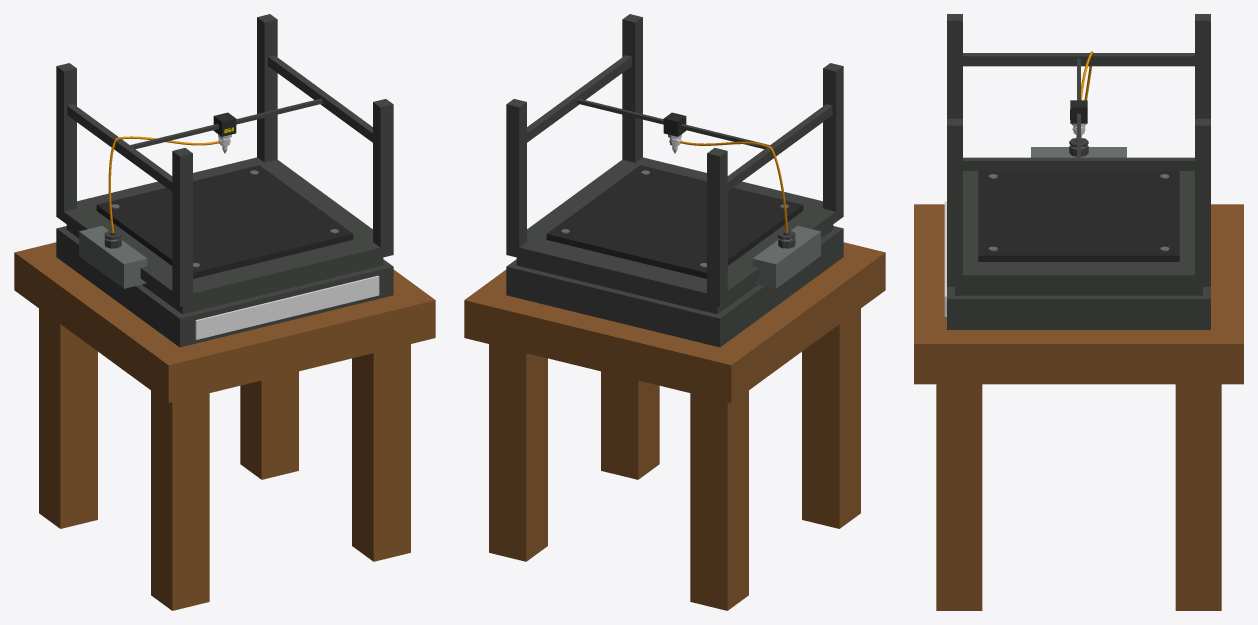
The model's file is LaserCutter.glb.
3 views of the same model, side by side, from view 1: azimuth 30°, elevation 25°; view 2: azimuth 150°, elevation 25°; view 3: azimuth 270°, elevation 25° (orthographic). The views are drawn at different scales.
Visible parts, largest first — view 1: Table, Laser Cutter, Baseplate, Progress Bar, Altitude Bar, Laser Bar, Nozzle, Wire; view 2: Table, Laser Cutter, Baseplate, Altitude Bar, Laser Bar, Nozzle; view 3: Table, Laser Cutter, Baseplate, Altitude Bar, Nozzle.
Boxes of the visible parts, x1=… form: Table: x1=14, y1=242, x2=435, y2=610; Laser Cutter: x1=56, y1=14, x2=393, y2=347; Baseplate: x1=96, y1=165, x2=353, y2=278; Progress Bar: x1=195, y1=275, x2=379, y2=339; Altitude Bar: x1=67, y1=55, x2=372, y2=191; Laser Bar: x1=130, y1=98, x2=322, y2=149; Nozzle: x1=213, y1=112, x2=236, y2=153; Wire: x1=108, y1=136, x2=219, y2=232; Table: x1=464, y1=242, x2=885, y2=610; Laser Cutter: x1=506, y1=14, x2=843, y2=347; Baseplate: x1=546, y1=165, x2=803, y2=278; Altitude Bar: x1=527, y1=55, x2=832, y2=191; Laser Bar: x1=577, y1=98, x2=769, y2=149; Nozzle: x1=663, y1=112, x2=686, y2=153; Table: x1=914, y1=204, x2=1243, y2=610; Laser Cutter: x1=947, y1=14, x2=1210, y2=329; Baseplate: x1=978, y1=171, x2=1179, y2=261; Altitude Bar: x1=963, y1=53, x2=1194, y2=170; Nozzle: x1=1070, y1=100, x2=1087, y2=139.
Size of the model in its own units: 2.5 by 4 by 2.5.
